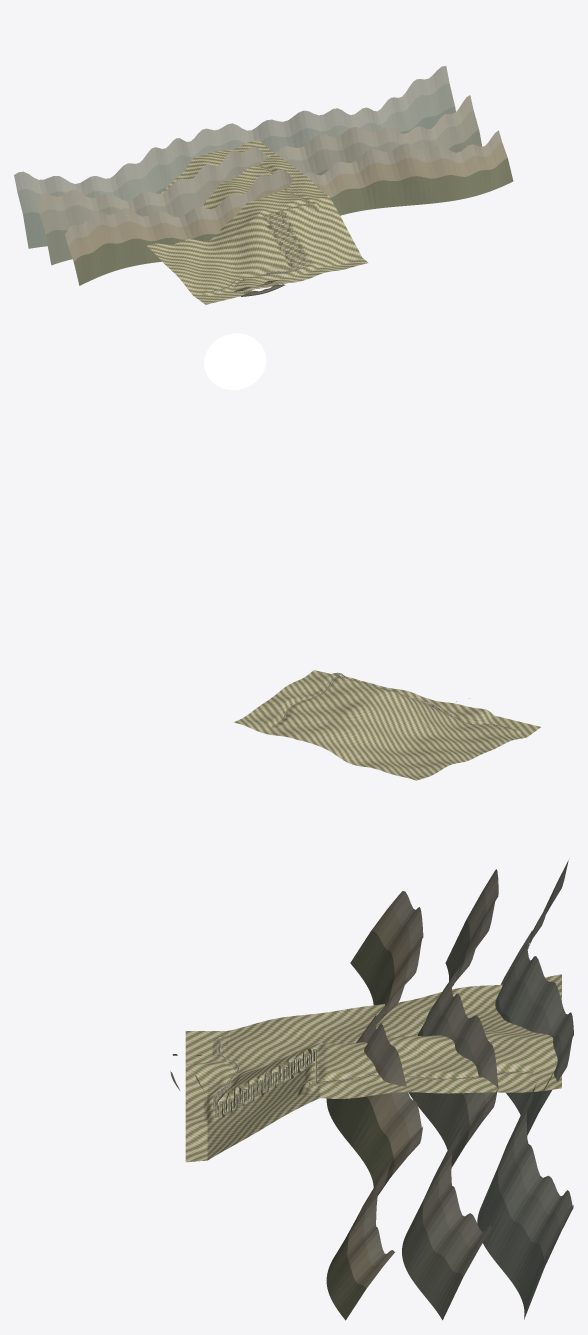
File: calobra.glb
3 views of the same model, one above another, from view 1: azimuth 30°, elevation 25°; view 2: azimuth 150°, elevation 25°; view 3: azimuth 270°, elevation 25° (orthographic). The views are drawn at different scales.
Visible parts, largest first — view 1: Peaks, Land_001, Land_019, Land_000, Land_020, Land_003, Land_002, Land_025, Land_022, Land_023, Land_021, Land_008 (+3 smaller); view 2: Land_019, Land_024, Sun, Land_025, Land_001, Land_022, Land_000, Land_023; view 3: Peaks, Land_000, Land_001, Land_019, Land_024, Land_025, Land_003, Land_023, Land_022, Land_020, Land_021, Land_002 (+1 smaller).
Part boxes in pixels (bbox=[...]): Peaks: bbox=[14, 66, 513, 296]; Land_001: bbox=[155, 240, 264, 288]; Land_019: bbox=[187, 194, 293, 248]; Land_000: bbox=[147, 243, 257, 304]; Land_020: bbox=[280, 193, 357, 249]; Land_003: bbox=[285, 246, 368, 282]; Land_002: bbox=[248, 249, 293, 287]; Land_025: bbox=[171, 141, 269, 183]; Land_022: bbox=[208, 176, 312, 198]; Land_023: bbox=[218, 159, 305, 186]; Land_021: bbox=[278, 182, 323, 234]; Land_008: bbox=[271, 236, 342, 261]; Land_019: bbox=[350, 681, 451, 772]; Land_024: bbox=[248, 704, 435, 775]; Sun: bbox=[204, 333, 266, 389]; Land_025: bbox=[234, 715, 430, 780]; Land_001: bbox=[430, 708, 487, 764]; Land_022: bbox=[288, 681, 380, 740]; Land_000: bbox=[457, 709, 540, 763]; Land_023: bbox=[263, 685, 364, 727]; Peaks: bbox=[170, 860, 573, 1320]; Land_000: bbox=[185, 992, 439, 1068]; Land_001: bbox=[185, 989, 454, 1079]; Land_019: bbox=[300, 984, 501, 1075]; Land_024: bbox=[451, 984, 518, 1092]; Land_025: bbox=[517, 974, 561, 1092]; Land_003: bbox=[185, 1095, 235, 1162]; Land_023: bbox=[398, 1036, 473, 1093]; Land_022: bbox=[350, 1035, 444, 1094]; Land_020: bbox=[221, 1063, 348, 1152]; Land_021: bbox=[260, 1062, 374, 1112]; Land_002: bbox=[185, 1065, 266, 1102].
Size of what is drawn, in the model's own units: 7538 by 4032 by 4980.
